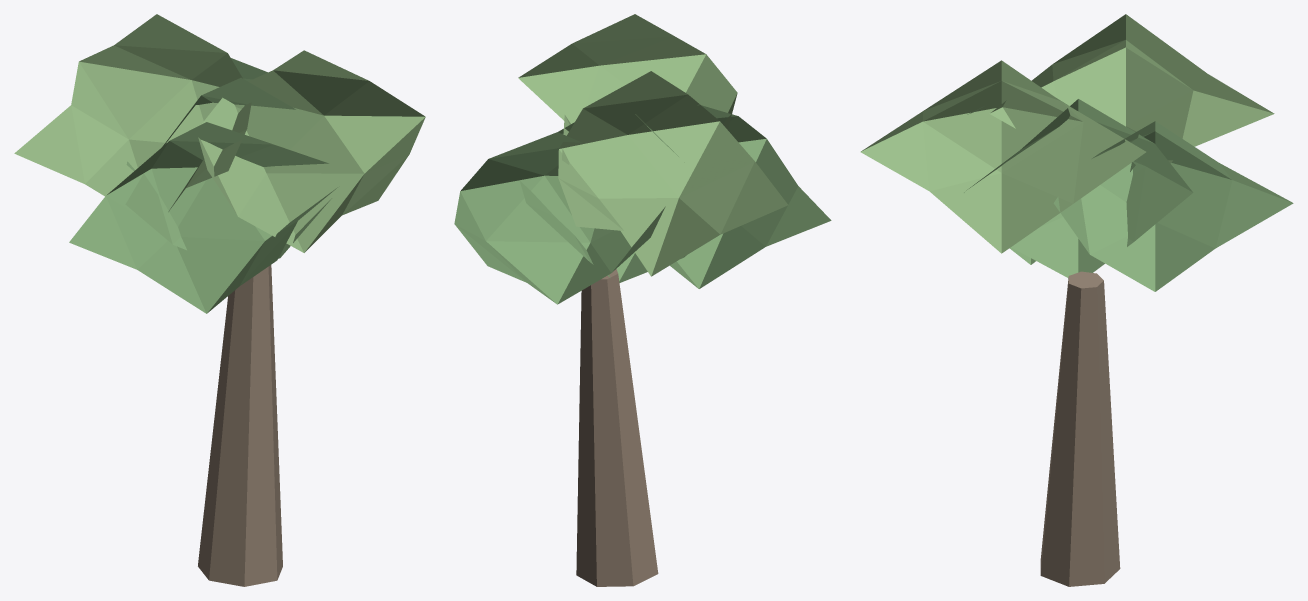
File: broadleaf_v37.glb
3 views of the same model, side by side, from view 1: azimuth 30°, elevation 25°; view 2: azimuth 150°, elevation 25°; view 3: azimuth 270°, elevation 25° (orthographic). The views are drawn at different scales.
Parts seen in each view (by area): view 1: lod0; view 2: lod0; view 3: lod0.
Boxes of the visible parts, <box> form: lod0: <box>14,14,425,586</box>; lod0: <box>454,14,831,586</box>; lod0: <box>860,14,1293,586</box>.
Size of what is drawn, in the model's own units: 3.28 by 5.02 by 3.73.
